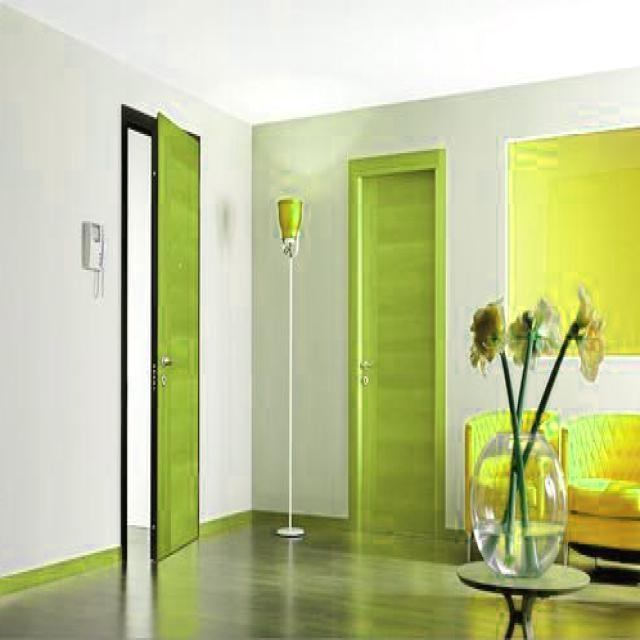door: (346, 122, 466, 574), (146, 108, 203, 569)
